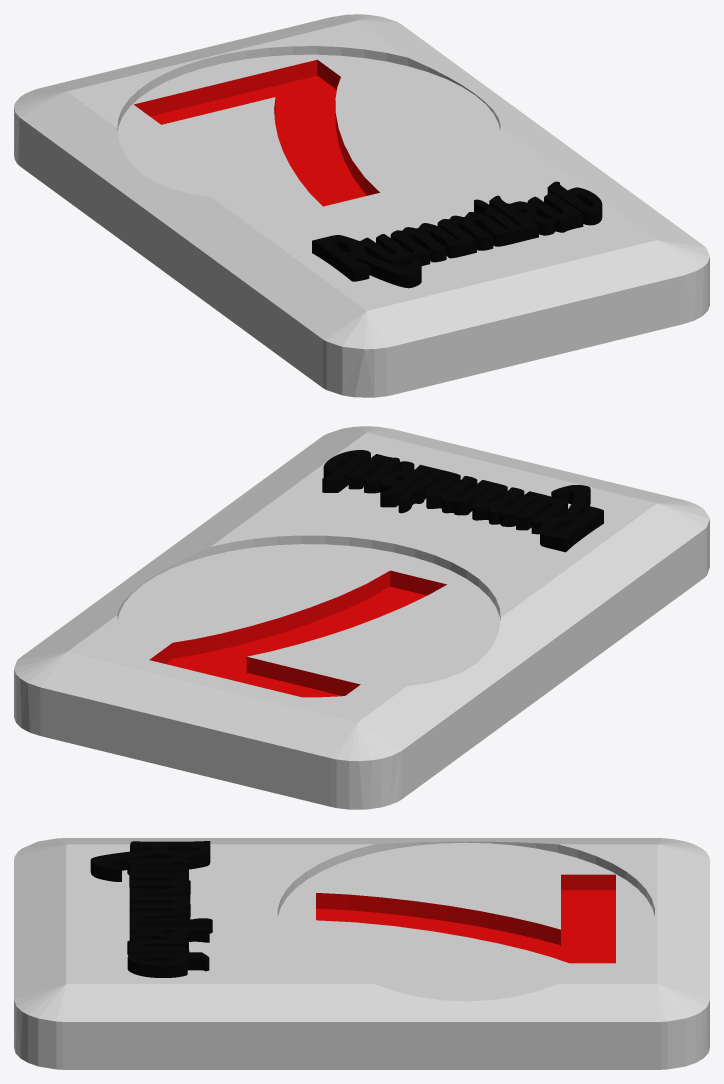
3 renders of one model, top to bottom at view 1: azimuth 30°, elevation 25°; view 2: azimuth 150°, elevation 25°; view 3: azimuth 270°, elevation 25°, orthographic.
Parts seen in each view (by area): view 1: Rummikub 7 Fixed, Rummikub 1 Fixed.001; view 2: Rummikub 7 Fixed, Rummikub 1 Fixed.001; view 3: Rummikub 7 Fixed, Rummikub 1 Fixed.001.
Part boxes in pixels (x1,y1,x2,y2): Rummikub 7 Fixed: (14,14,709,397); Rummikub 1 Fixed.001: (312,181,602,288); Rummikub 7 Fixed: (14,426,709,809); Rummikub 1 Fixed.001: (322,450,603,552); Rummikub 7 Fixed: (14,838,709,1069); Rummikub 1 Fixed.001: (90,841,212,977).
Size of the model in its own units: 2499 by 482 by 4000.
